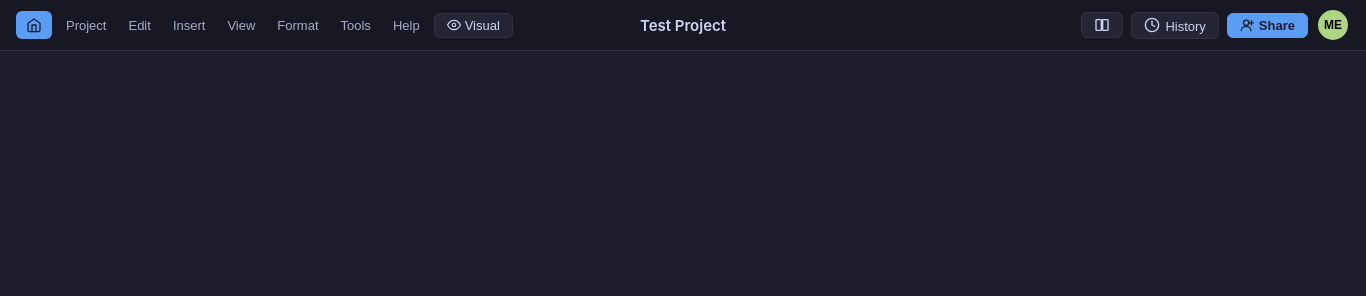
Test: Toolbar › closes menu when the same menu button is clicked again
This screenshot has width=1366, height=296.
Click the button "Project" at (86, 25), box [56, 14, 116, 36]
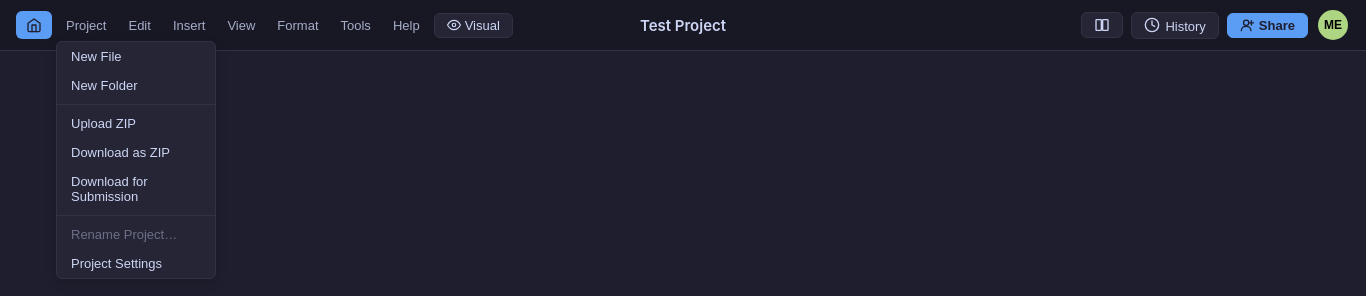
Result: the button "New File" is shown at [57, 42, 215, 70]
Click the button "Project" at (86, 25), box [56, 14, 116, 36]
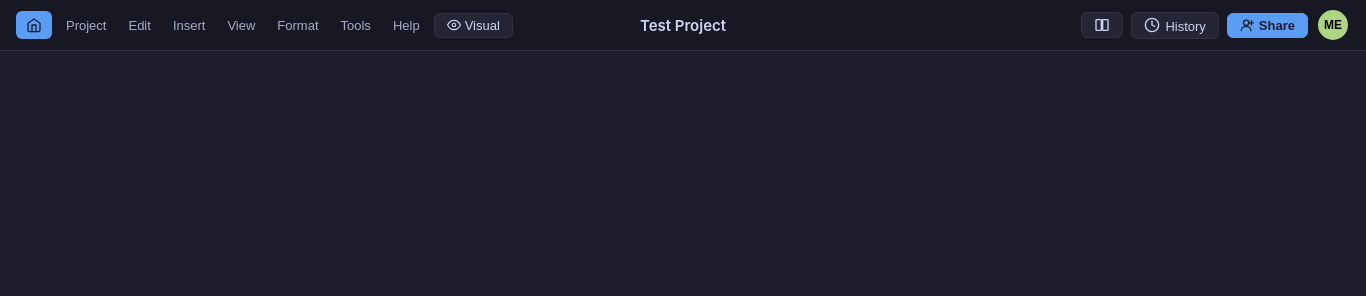
Result: the button "New File" is gone
